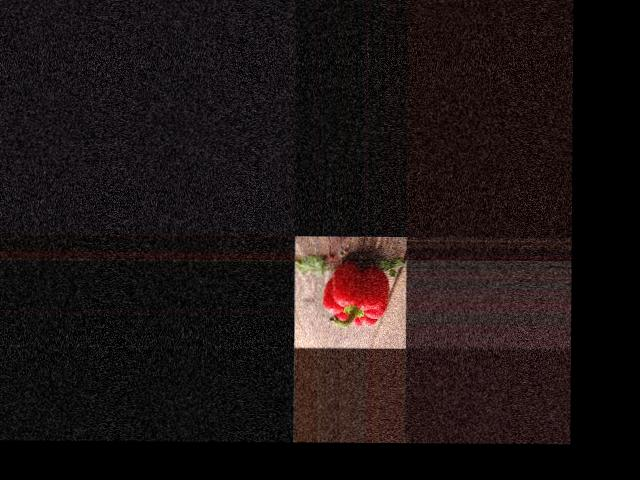bell_pepper: (319, 259, 393, 332)
